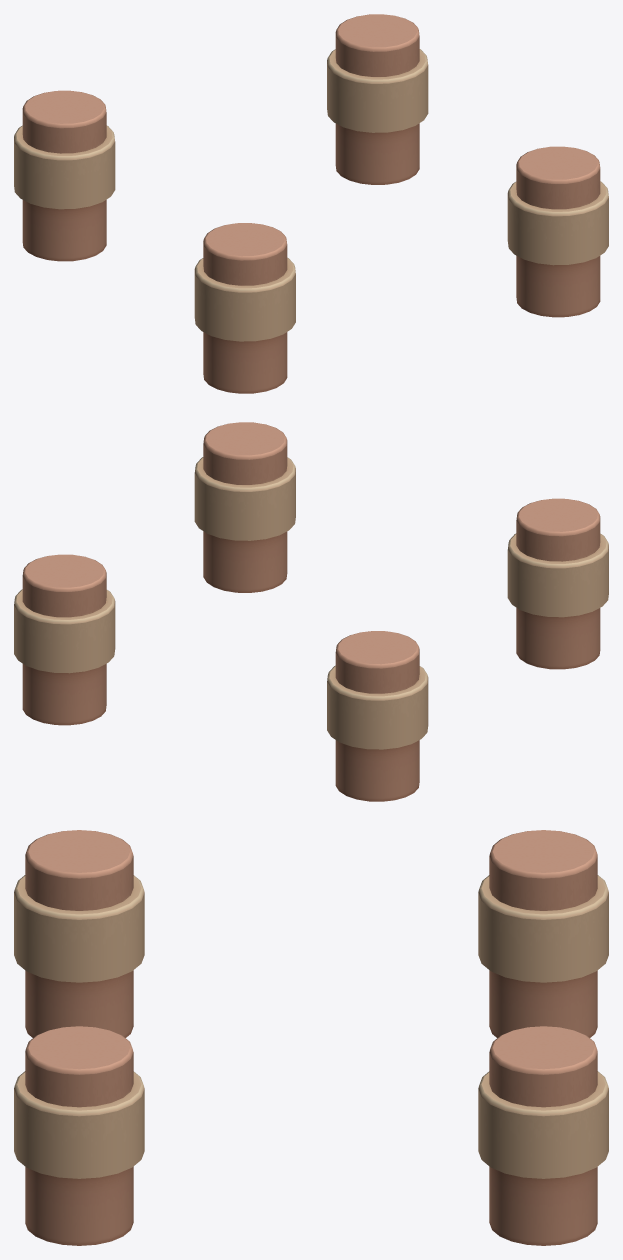
File: Props.fbx
3 renders of one model, top to bottom at view 1: azimuth 30°, elevation 25°; view 2: azimuth 150°, elevation 25°; view 3: azimuth 270°, elevation 25°, orthographic. The views are drawn at different scales.
Visible parts, largest first — view 1: Cylinder-2 (1), Cylinder-2 (2), Cylinder-2 (3), Cylinder-2; view 2: Cylinder-2, Cylinder-2 (3), Cylinder-2 (2), Cylinder-2 (1); view 3: Cylinder-2 (2), Cylinder-2 (3), Cylinder-2, Cylinder-2 (1).
Part boxes in pixels (left/top/right/bottom): Cylinder-2 (1): left=14, top=90, right=115, bottom=261; Cylinder-2 (2): left=507, top=146, right=608, bottom=317; Cylinder-2 (3): left=327, top=14, right=428, bottom=184; Cylinder-2: left=194, top=223, right=295, bottom=393; Cylinder-2: left=507, top=498, right=608, bottom=669; Cylinder-2 (3): left=14, top=554, right=115, bottom=725; Cylinder-2 (2): left=194, top=422, right=295, bottom=592; Cylinder-2 (1): left=327, top=631, right=428, bottom=801; Cylinder-2 (2): left=14, top=1026, right=144, bottom=1245; Cylinder-2 (3): left=478, top=1026, right=608, bottom=1245; Cylinder-2: left=14, top=830, right=144, bottom=1037; Cylinder-2 (1): left=478, top=830, right=608, bottom=1037.
Bounding box in the file's own units: 15.38 × 5 × 15.38.
